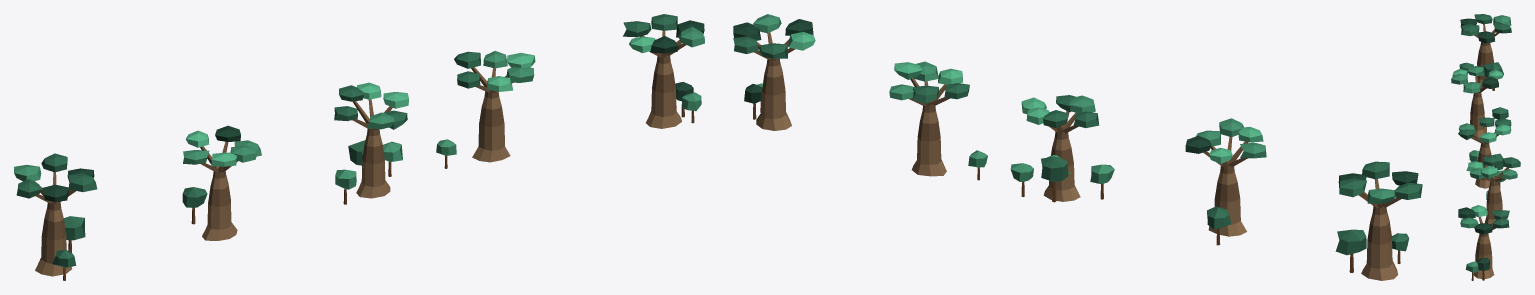
File: W3_Far_Baobabs.fbx
3 views of the same model, side by side, from view 1: azimuth 30°, elevation 25°; view 2: azimuth 150°, elevation 25°; view 3: azimuth 270°, elevation 25° (orthographic). The views are drawn at different scales.
Visible parts, largest first — view 1: W3_Far_Baobabs; view 2: W3_Far_Baobabs; view 3: W3_Far_Baobabs.
Boxes of the visible parts, x1,y1,x2,y2 form: W3_Far_Baobabs: (14, 14, 704, 280); W3_Far_Baobabs: (733, 14, 1422, 280); W3_Far_Baobabs: (1451, 14, 1520, 280).
Bounding box in the file's own units: 421 × 57.57 × 57.66.
